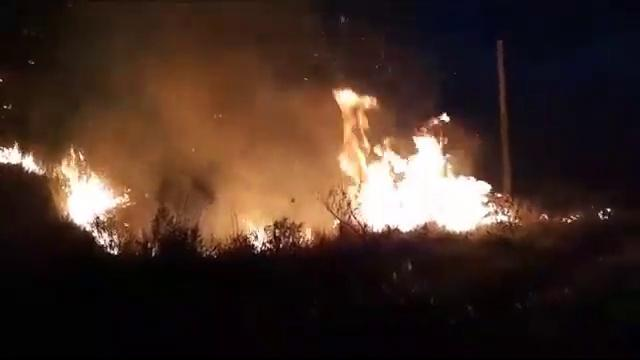fire: (365, 161, 482, 225), (66, 176, 122, 226)
